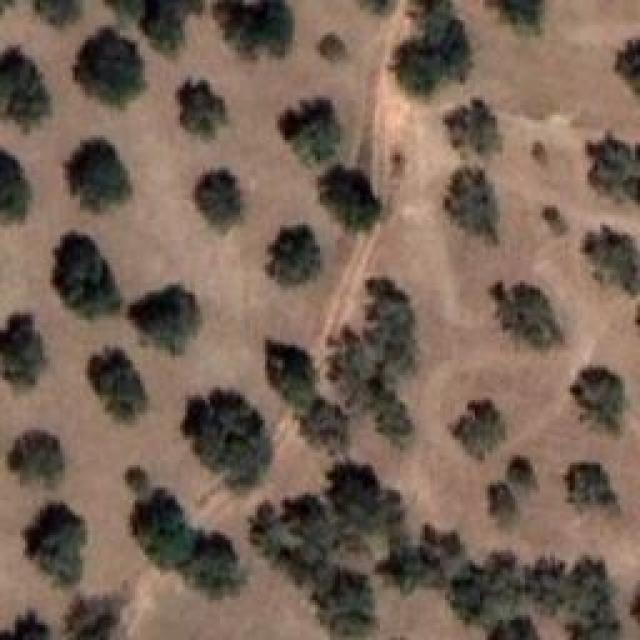Tree: (185, 390, 270, 488), (253, 498, 343, 573), (48, 232, 121, 315), (75, 28, 153, 102), (484, 280, 562, 350), (25, 500, 87, 588), (213, 0, 298, 60), (363, 278, 418, 369), (85, 343, 149, 421), (140, 278, 205, 354), (563, 560, 624, 640), (128, 490, 195, 562), (65, 138, 133, 206), (178, 527, 242, 597), (313, 570, 376, 640), (278, 95, 342, 162), (325, 168, 389, 234), (135, 0, 209, 57), (265, 337, 322, 407), (0, 45, 50, 124), (325, 333, 377, 406), (333, 463, 388, 530), (0, 313, 49, 387), (585, 225, 639, 292), (265, 228, 325, 288), (8, 427, 69, 484), (386, 538, 444, 597), (590, 132, 640, 200), (454, 398, 508, 459), (300, 393, 352, 456), (68, 590, 133, 640), (444, 170, 496, 232), (448, 565, 498, 628), (575, 368, 626, 429), (173, 75, 228, 131), (195, 170, 245, 229), (565, 464, 620, 516), (440, 15, 483, 78), (445, 103, 497, 154), (365, 390, 418, 440), (390, 38, 440, 91), (525, 560, 571, 615), (485, 553, 526, 607), (488, 480, 531, 531), (0, 150, 29, 224), (492, 0, 551, 33), (492, 605, 540, 640), (0, 604, 46, 639), (615, 35, 640, 93), (507, 451, 540, 494), (313, 28, 347, 66), (412, 0, 458, 28), (37, 0, 84, 27), (528, 140, 556, 174), (545, 206, 572, 236), (125, 468, 149, 496), (355, 0, 396, 13)
